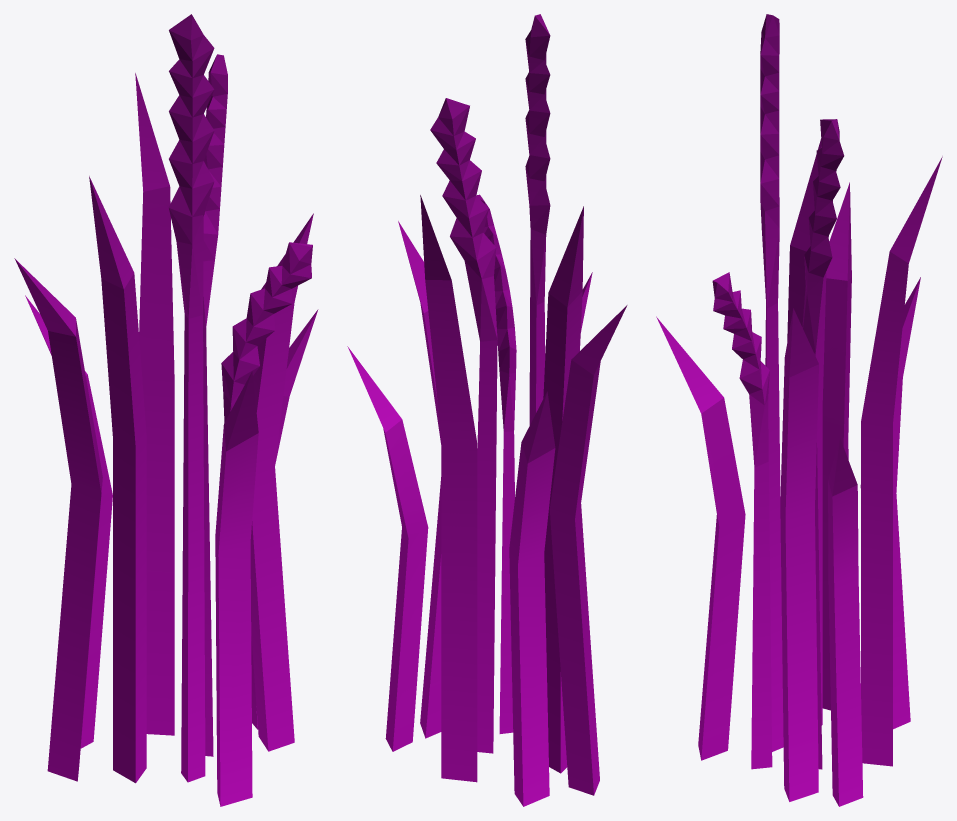
Rendered from SM_Prop_Plant_Wheat_02.fbx.
The picture shows the model from 3 angles, left to right: view 1: azimuth 30°, elevation 25°; view 2: azimuth 150°, elevation 25°; view 3: azimuth 270°, elevation 25°; orthographic projection. The views are drawn at different scales.
Visible parts, largest first — view 1: SM_Prop_Plant_Wheat_02; view 2: SM_Prop_Plant_Wheat_02; view 3: SM_Prop_Plant_Wheat_02.
Boxes of the visible parts, <box> form: SM_Prop_Plant_Wheat_02: <box>14,14,318,806</box>; SM_Prop_Plant_Wheat_02: <box>347,14,627,806</box>; SM_Prop_Plant_Wheat_02: <box>656,14,942,806</box>.
Bounding box in the file's own units: 46.79 × 114 × 40.35.
